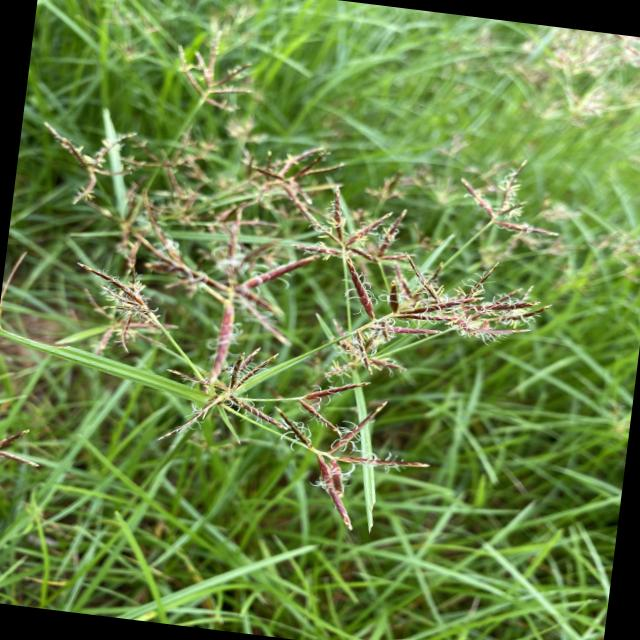cyperus: (184, 123, 572, 552), (13, 11, 325, 368), (225, 132, 575, 406), (142, 328, 432, 540)
